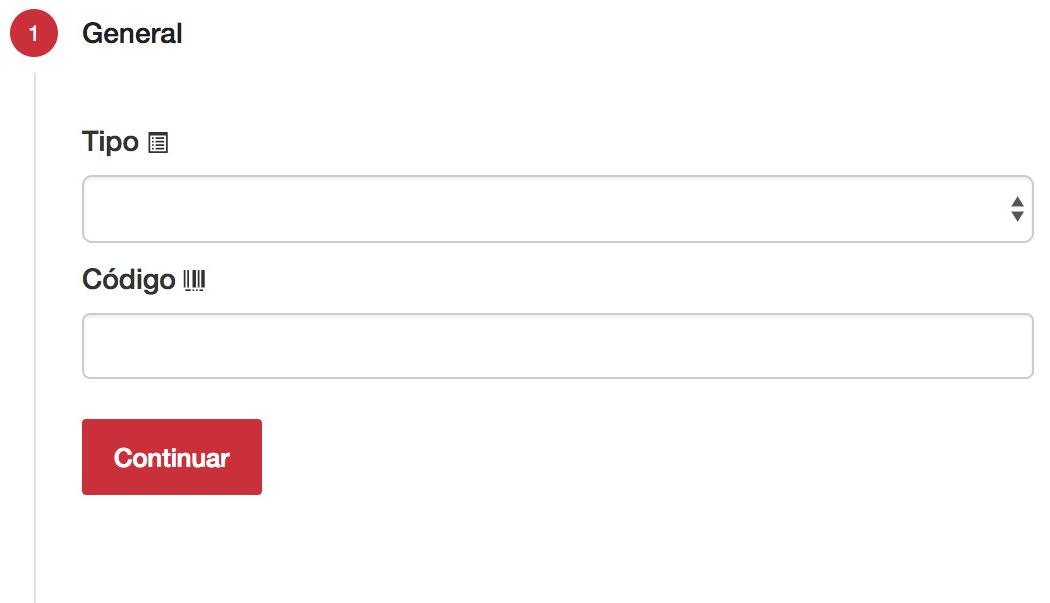button: (78, 416, 267, 498)
field: (77, 311, 1040, 384), (79, 176, 1039, 244)
field_with_label: (73, 259, 1047, 389), (73, 124, 1046, 250)
